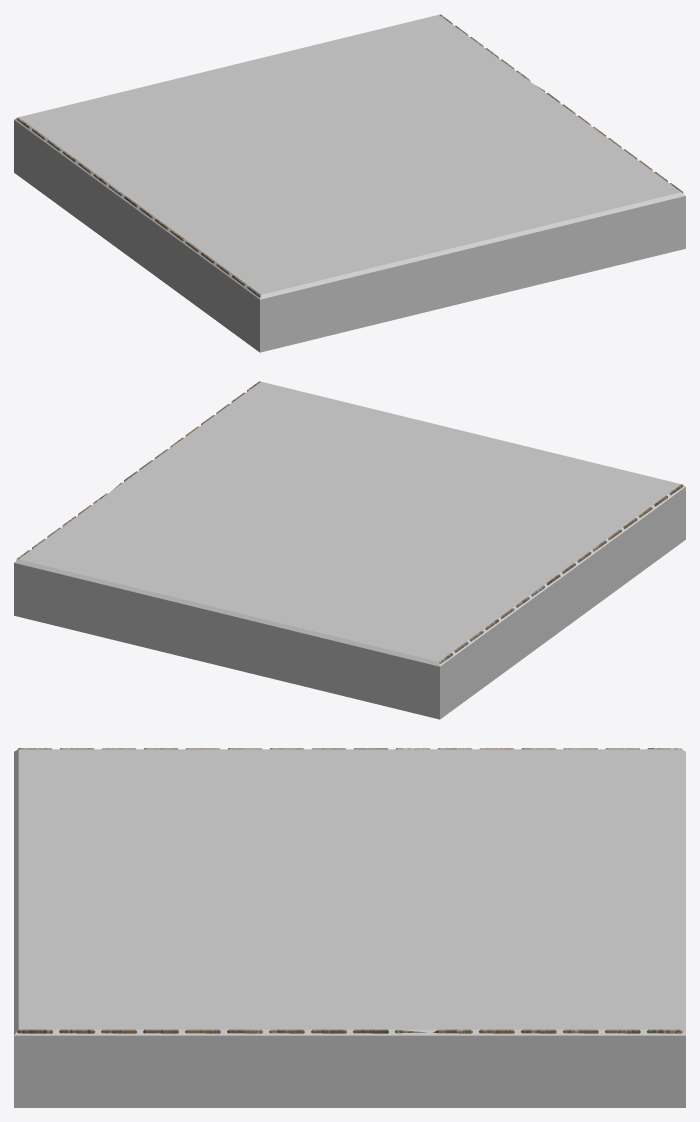
The model's file is SM_CastleTower_Floor_A_01.fbx.
3 renders of one model, top to bottom at view 1: azimuth 30°, elevation 25°; view 2: azimuth 150°, elevation 25°; view 3: azimuth 270°, elevation 25°, orthographic. The views are drawn at different scales.
Parts seen in each view (by area): view 1: SM_CastleTower_Floor_A_01_ConvexHulls, SM_CastleTower_Floor_A_01; view 2: SM_CastleTower_Floor_A_01_ConvexHulls, SM_CastleTower_Floor_A_01; view 3: SM_CastleTower_Floor_A_01_ConvexHulls, SM_CastleTower_Floor_A_01.
Part boxes in pixels (x1,y1,x2,y2): SM_CastleTower_Floor_A_01_ConvexHulls: (14, 14, 685, 352); SM_CastleTower_Floor_A_01: (16, 14, 683, 297); SM_CastleTower_Floor_A_01_ConvexHulls: (14, 381, 685, 719); SM_CastleTower_Floor_A_01: (16, 381, 683, 663); SM_CastleTower_Floor_A_01_ConvexHulls: (14, 749, 685, 1107); SM_CastleTower_Floor_A_01: (17, 748, 682, 1033).
Size of the model in its own units: 400 by 400 by 50.2.
